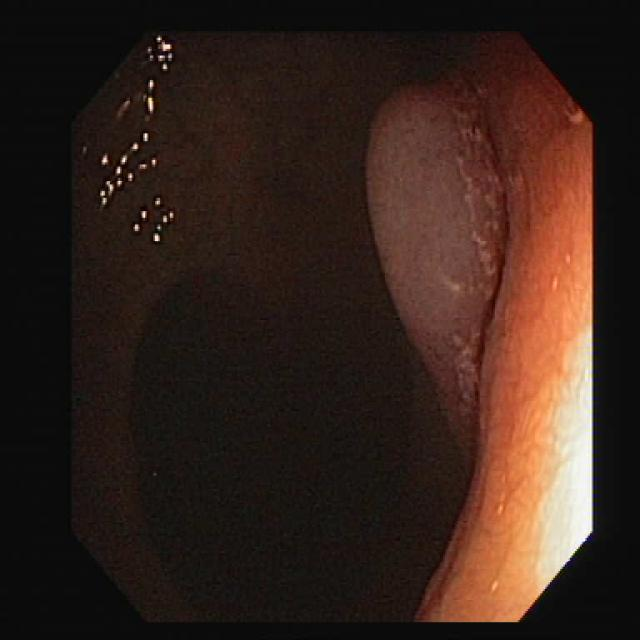tumor: (368, 78, 522, 442)
